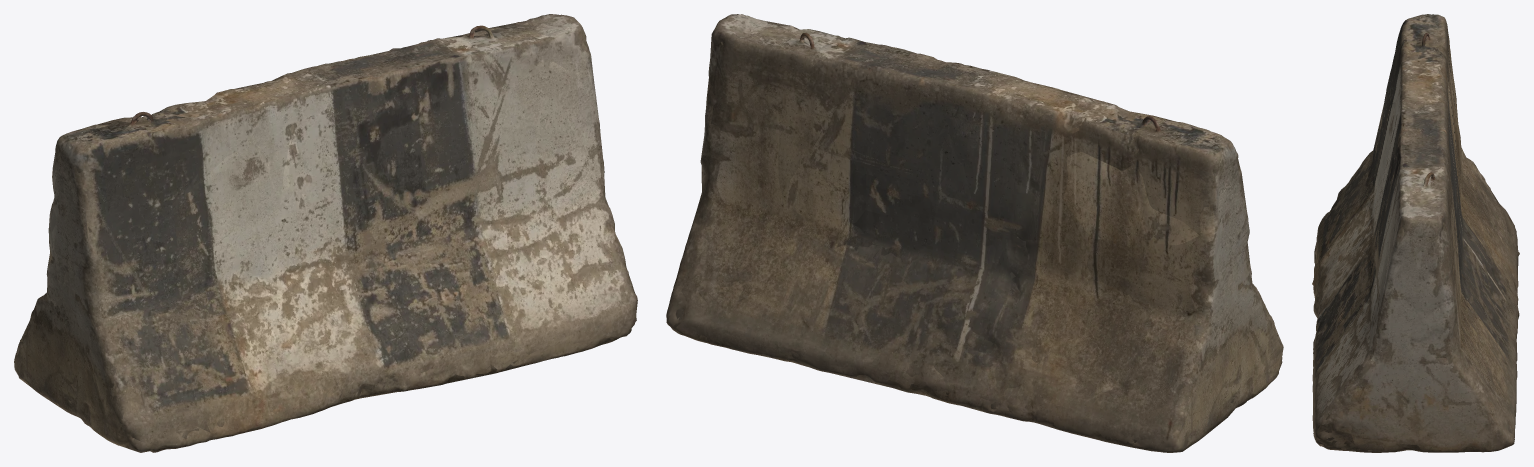
The model's file is concrete_road_barrier.glb.
The picture shows the model from 3 angles, left to right: view 1: azimuth 30°, elevation 25°; view 2: azimuth 150°, elevation 25°; view 3: azimuth 270°, elevation 25°; orthographic projection. The views are drawn at different scales.
Parts seen in each view (by area): view 1: concrete_road_barrier, concrete_road_barrier_lo; view 2: concrete_road_barrier, concrete_road_barrier_lo; view 3: concrete_road_barrier, concrete_road_barrier_lo.
Part boxes in pixels (x1=…): concrete_road_barrier: x1=14, y1=14, x2=637, y2=452; concrete_road_barrier_lo: x1=15, y1=18, x2=637, y2=452; concrete_road_barrier: x1=666, y1=14, x2=1283, y2=452; concrete_road_barrier_lo: x1=673, y1=14, x2=1283, y2=451; concrete_road_barrier: x1=1312, y1=14, x2=1519, y2=452; concrete_road_barrier_lo: x1=1313, y1=14, x2=1519, y2=452.
Size of the model in its own units: 1.54 by 0.8309 by 0.6386.
Materials: 1 (1 with a texture image).
